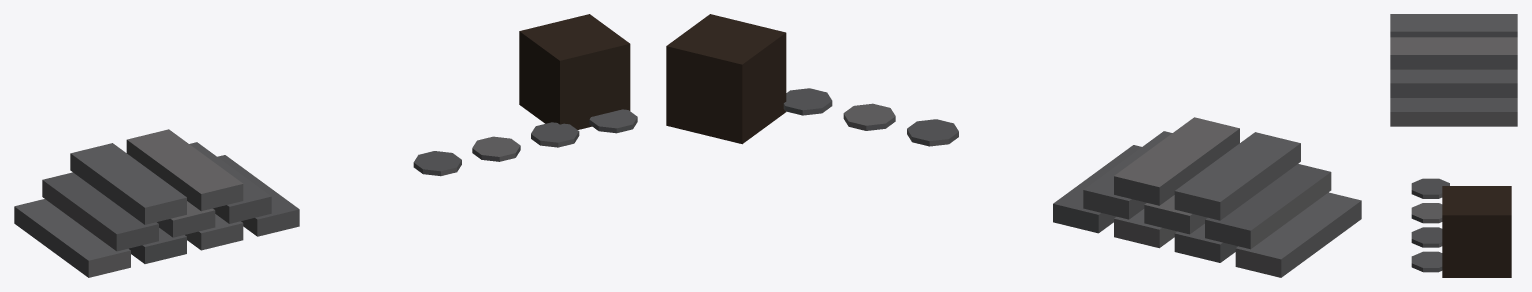
Rendered from walk_prop_goods_iron.glb.
3 views of the same model, side by side, from view 1: azimuth 30°, elevation 25°; view 2: azimuth 150°, elevation 25°; view 3: azimuth 270°, elevation 25° (orthographic). The views are drawn at different scales.
Visible parts, largest first — view 1: walk_prop_goods_iron; view 2: walk_prop_goods_iron; view 3: walk_prop_goods_iron.
Part boxes in pixels (bbox=[...]): walk_prop_goods_iron: bbox=[14, 14, 637, 277]; walk_prop_goods_iron: bbox=[666, 14, 1361, 277]; walk_prop_goods_iron: bbox=[1390, 14, 1517, 277].
Bounding box in the file's own units: 2.44 × 0.3 × 0.55.
2 materials, 2 textured.
